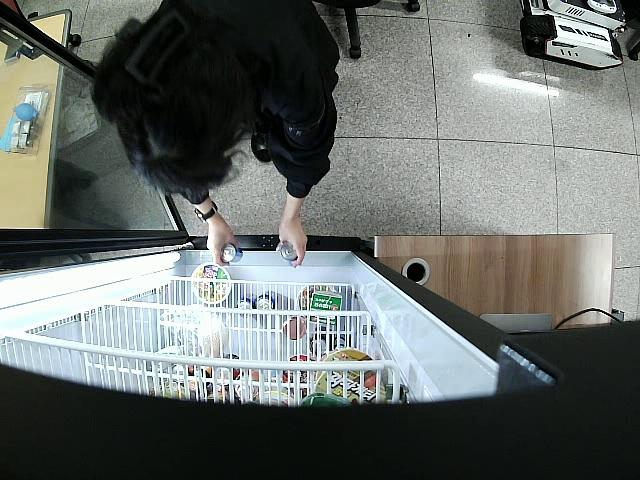00_hand: (279, 221, 308, 269), (206, 224, 237, 266)
15_letsbe: (221, 241, 244, 264), (278, 240, 300, 264)
